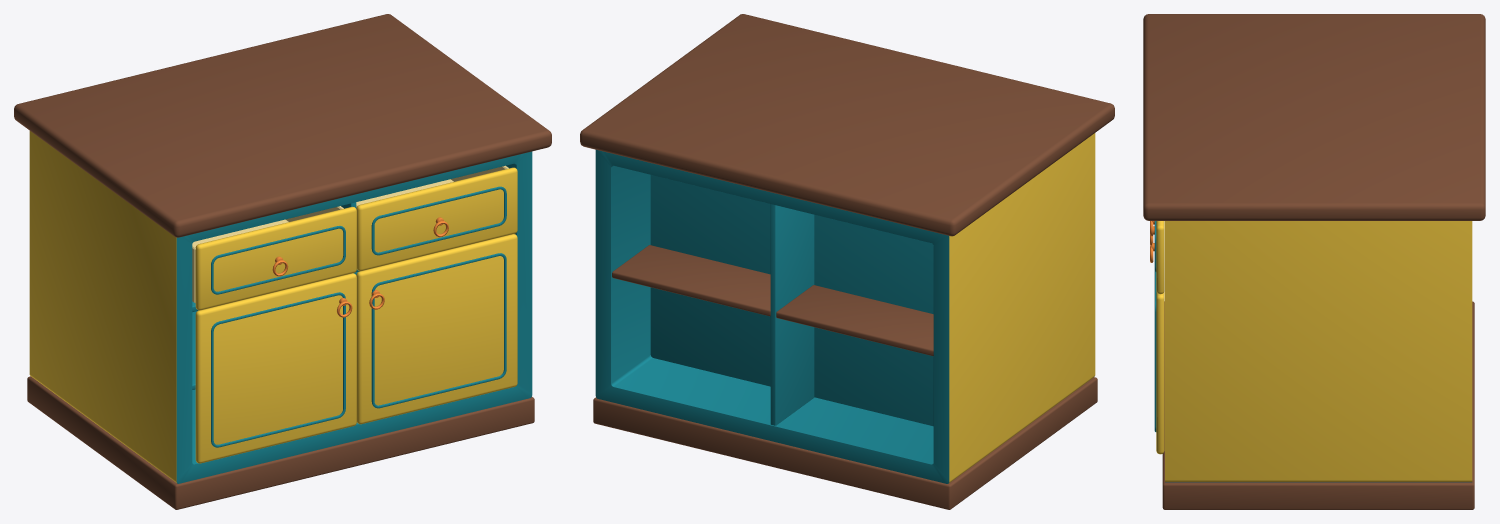
File: ilha_cozinha_colonial.glb
3 views of the same model, side by side, from view 1: azimuth 30°, elevation 25°; view 2: azimuth 150°, elevation 25°; view 3: azimuth 270°, elevation 25° (orthographic). The views are drawn at different scales.
Parts seen in each view (by area): view 1: ilha_cozinha_colonial, porta_1, porta_2, gaveta_1, gaveta_2; view 2: ilha_cozinha_colonial; view 3: ilha_cozinha_colonial, porta_2, gaveta_2.
Boxes of the visible parts, x1,y1,x2,y2 form: ilha_cozinha_colonial: (14, 14, 551, 509); porta_1: (195, 273, 356, 463); porta_2: (356, 234, 517, 424); gaveta_1: (192, 206, 356, 310); gaveta_2: (356, 165, 517, 271); ilha_cozinha_colonial: (580, 14, 1114, 509); ilha_cozinha_colonial: (1143, 14, 1485, 509); porta_2: (1150, 243, 1164, 454); gaveta_2: (1150, 221, 1164, 294).
Bounding box in the file's own units: 1.2 × 0.9 × 0.9.
1 material, 1 textured.
